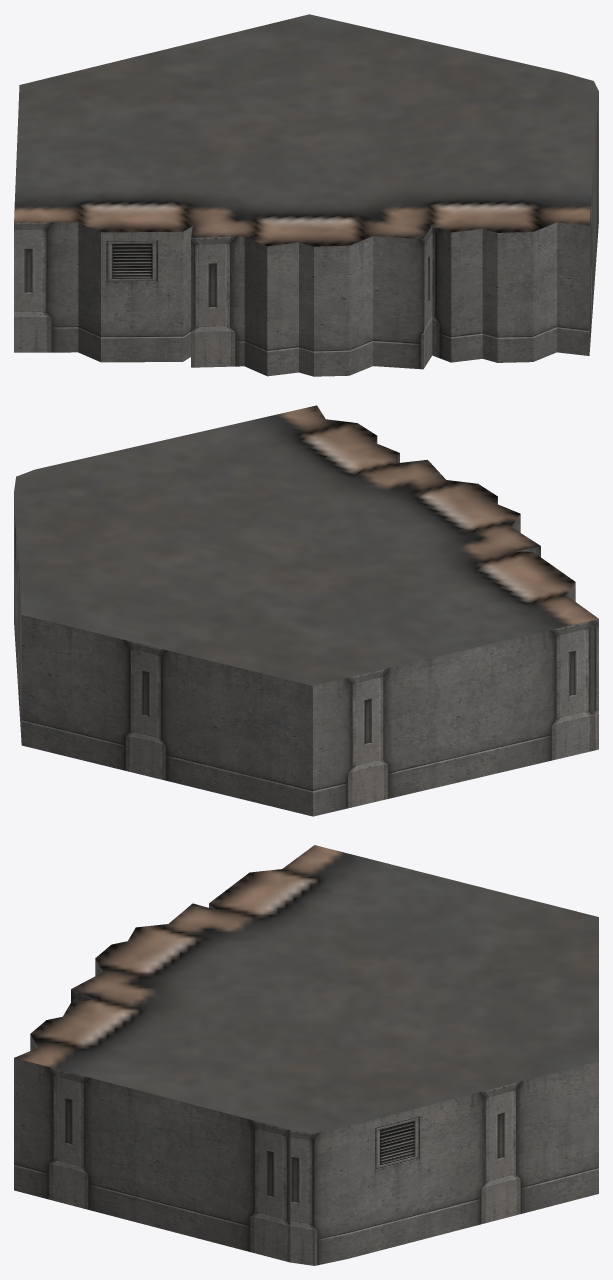
Rendered from building_hard_39.glb.
3 views of the same model, one above another, from view 1: azimuth 30°, elevation 25°; view 2: azimuth 150°, elevation 25°; view 3: azimuth 270°, elevation 25° (orthographic).
Parts seen in each view (by area): view 1: buildings/saxarba/building_hard/building_hard_39; view 2: buildings/saxarba/building_hard/building_hard_39; view 3: buildings/saxarba/building_hard/building_hard_39.
Boxes of the visible parts, x1,y1,x2,y2 form: buildings/saxarba/building_hard/building_hard_39: [14, 14, 598, 376]; buildings/saxarba/building_hard/building_hard_39: [14, 405, 598, 816]; buildings/saxarba/building_hard/building_hard_39: [14, 845, 598, 1265].
Bounding box in the file's own units: 84 × 18 × 72.
